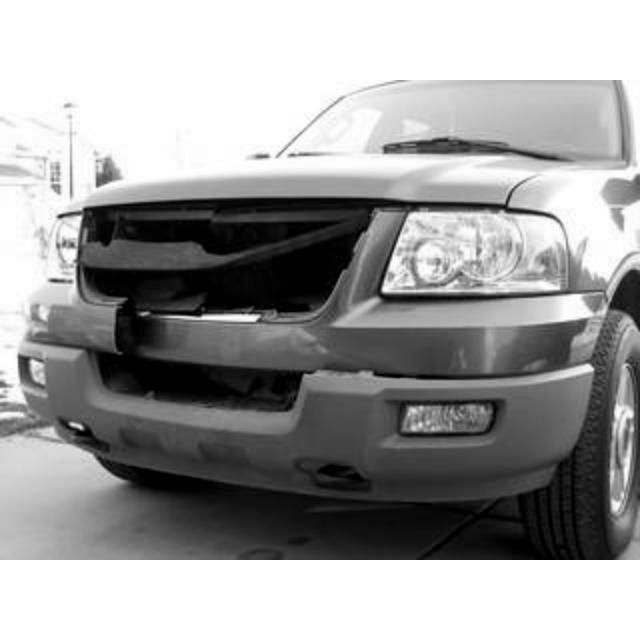front-bumper-dent: (100, 202, 366, 456)
